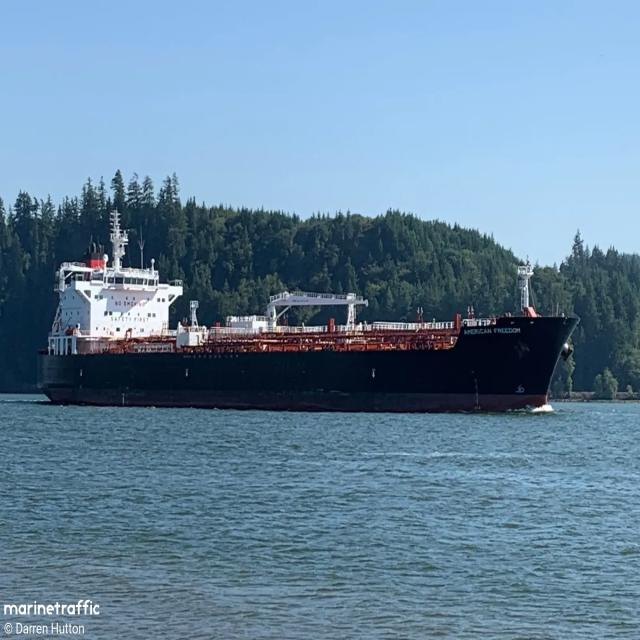Tanker: (38, 211, 578, 412)
